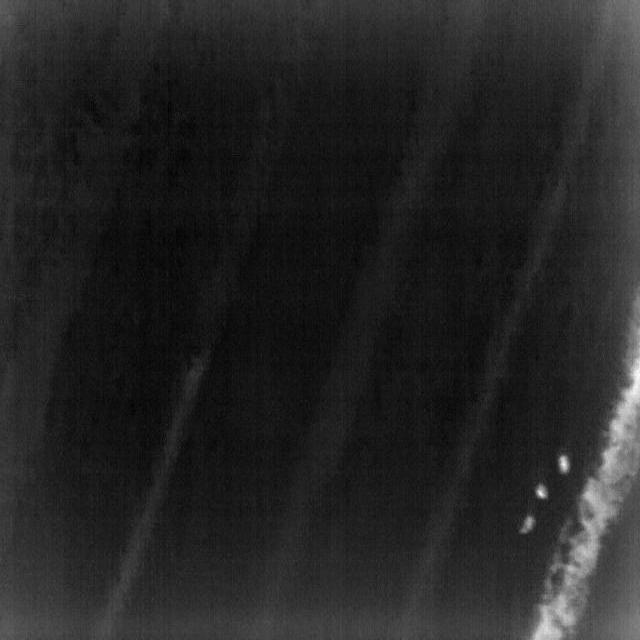deer: (518, 513, 537, 534), (556, 453, 572, 475), (534, 482, 551, 500)
